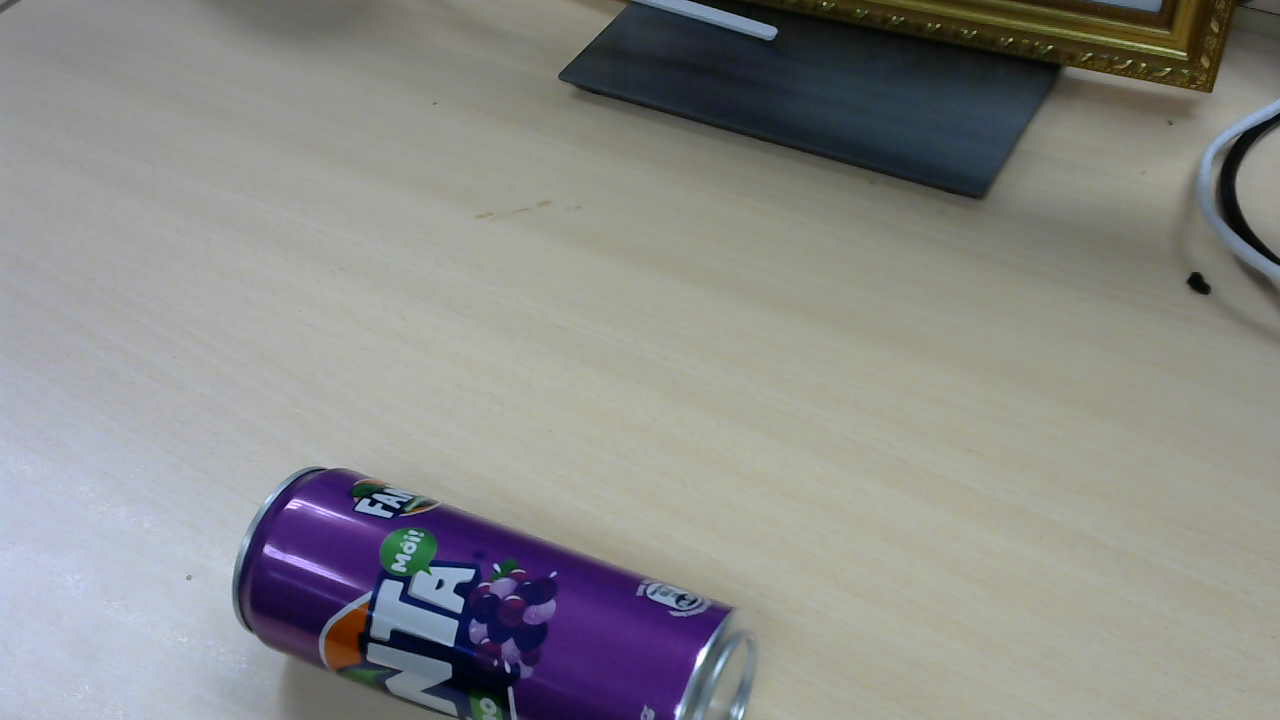Fanta: (235, 468, 761, 700)
